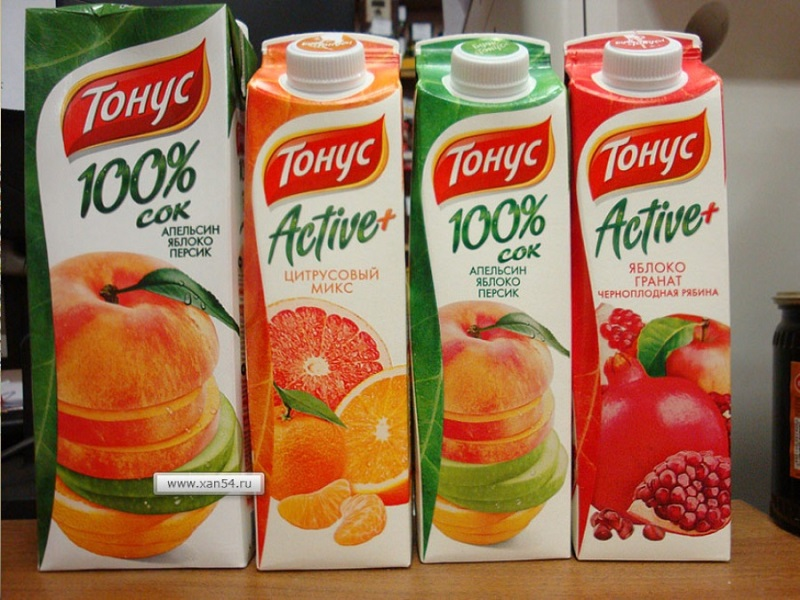juice: (1, 5, 266, 584), (237, 31, 435, 583), (556, 29, 754, 575), (400, 35, 588, 575)
